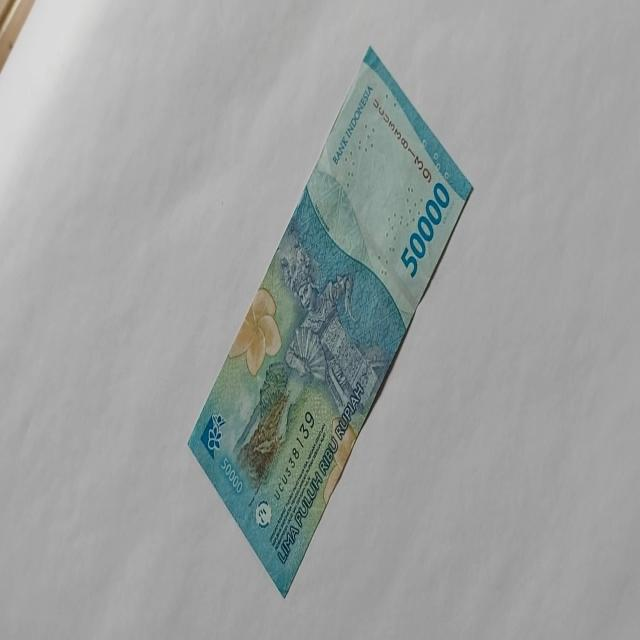lima puluh ribu rupiah: (186, 42, 474, 598), (400, 180, 450, 280)
